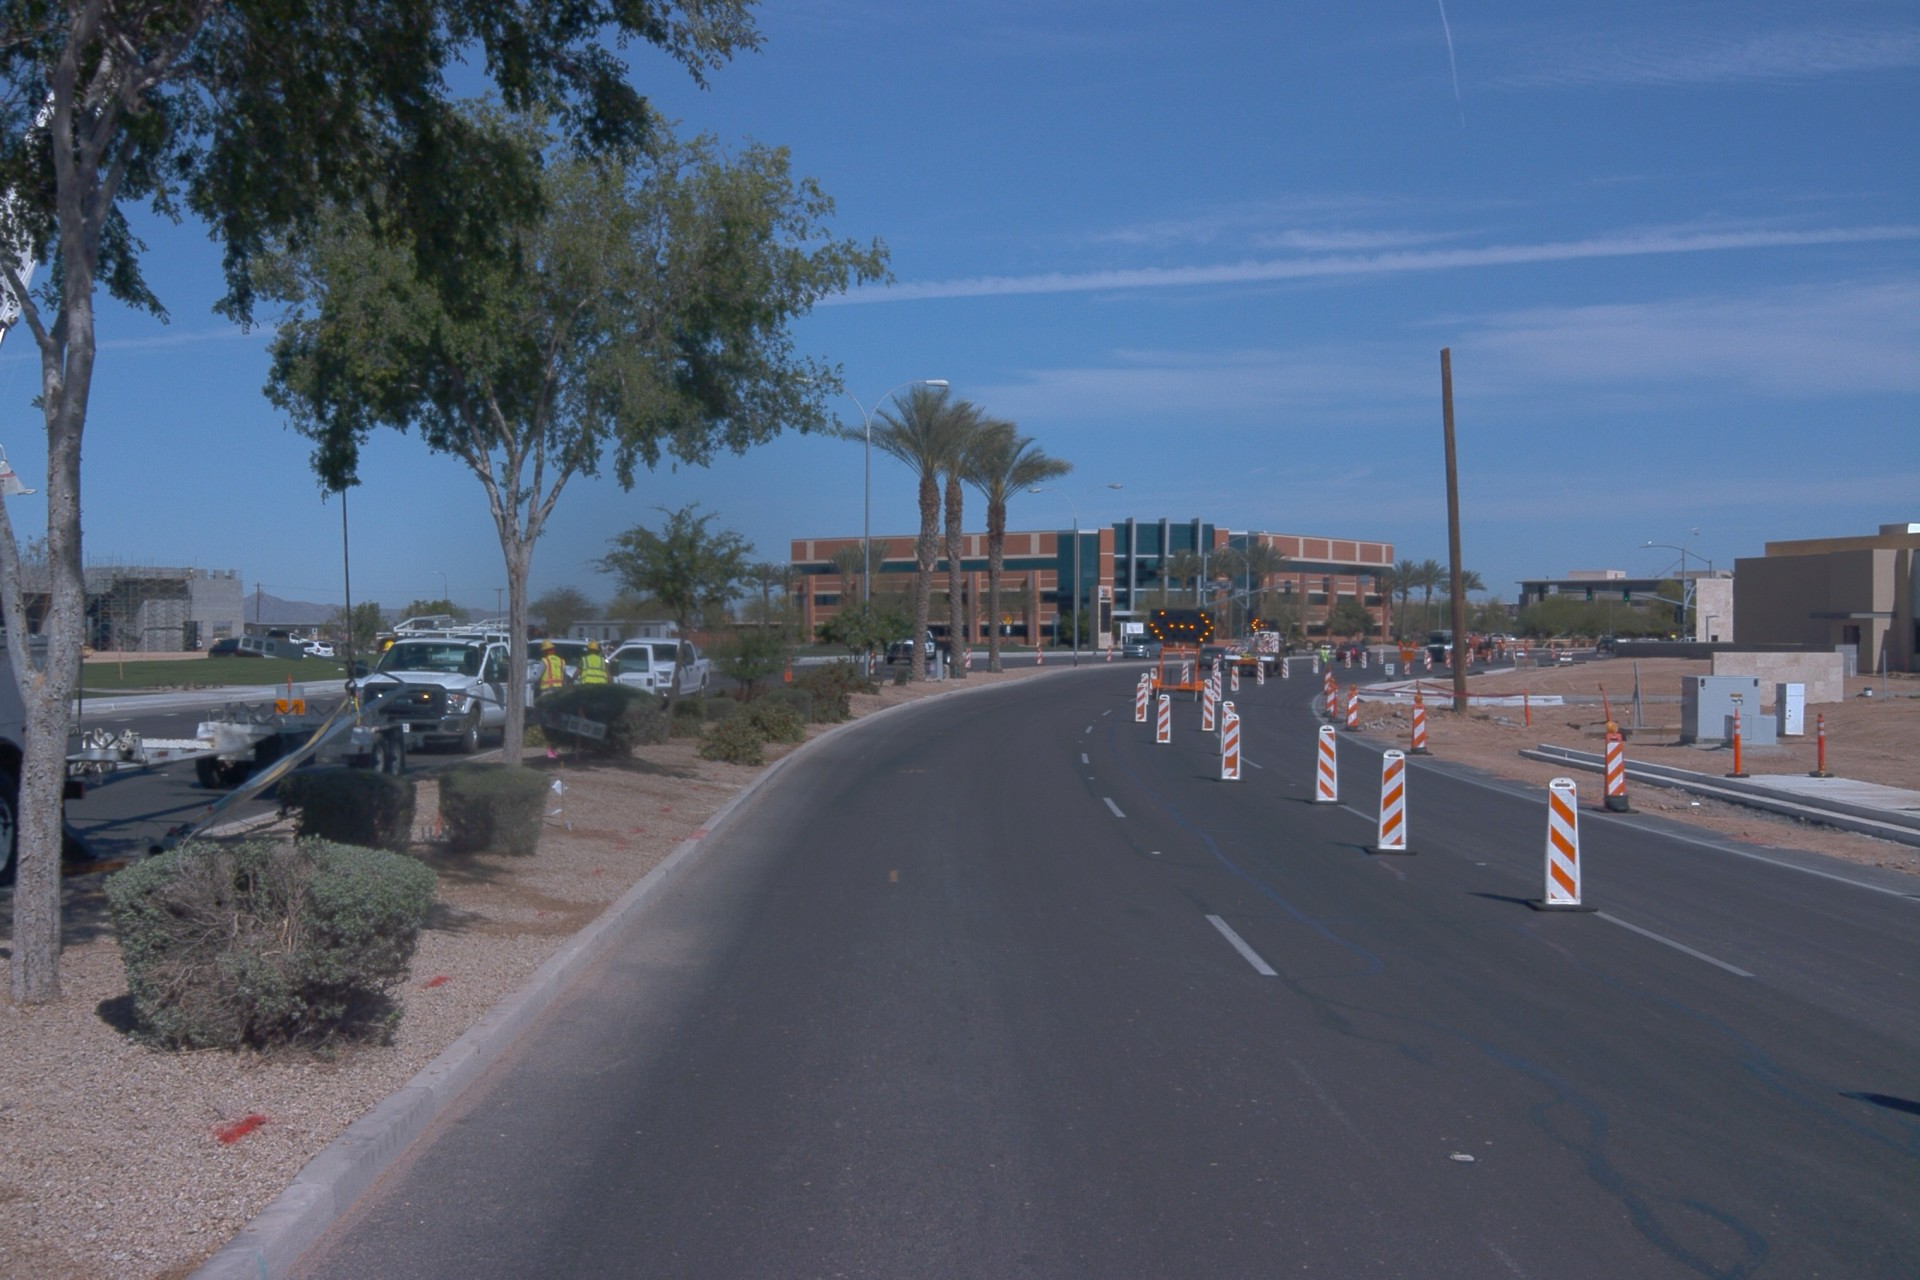TYPE_PEDESTRIAN: (525, 639, 568, 701), (569, 644, 613, 688), (1317, 646, 1330, 675)
TYPE_VEHICLE: (47, 614, 630, 849), (0, 64, 122, 897), (347, 629, 538, 763), (387, 608, 537, 724), (1139, 600, 1231, 707), (608, 630, 716, 709), (516, 634, 612, 697), (1221, 615, 1297, 678), (884, 629, 955, 674), (1422, 625, 1498, 663), (1253, 628, 1298, 654), (370, 630, 415, 656), (325, 638, 370, 663), (1122, 635, 1163, 661), (208, 638, 261, 658), (259, 627, 312, 646), (295, 638, 338, 661), (1336, 638, 1375, 663), (1199, 645, 1236, 670), (483, 632, 516, 657)
